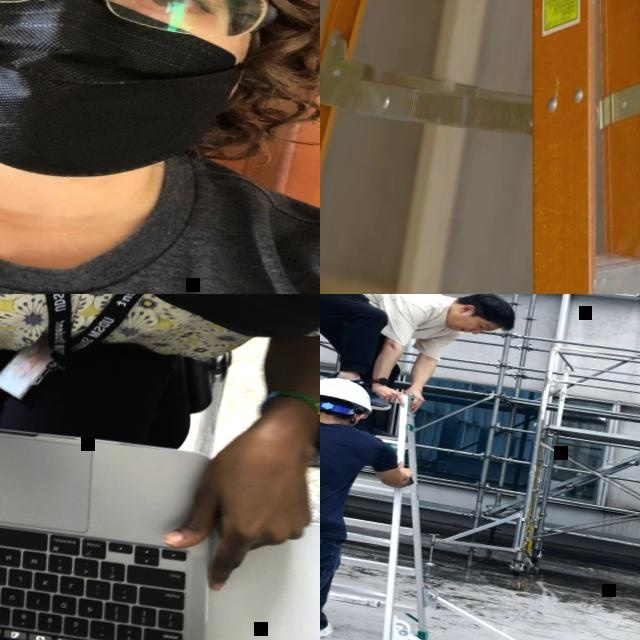Hardhat: (320, 371, 378, 414)
Mask: (0, 0, 265, 202), (68, 294, 320, 361)
NO-Hardhat: (467, 294, 518, 331)
NO-Mask: (447, 311, 473, 334)
NO-Safety Vest: (0, 93, 320, 294), (0, 294, 268, 384), (320, 405, 383, 534), (320, 294, 454, 338)
Person: (0, 294, 320, 640), (0, 0, 320, 294), (320, 364, 431, 640), (320, 294, 521, 428)
